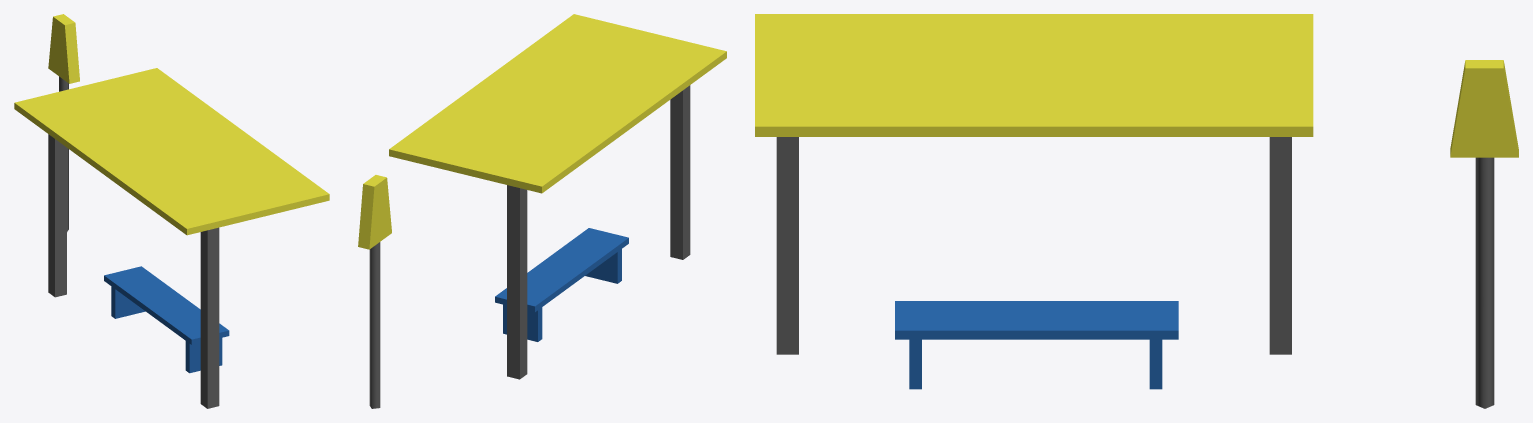
File: Bus Stop.FBX
3 views of the same model, side by side, from view 1: azimuth 30°, elevation 25°; view 2: azimuth 150°, elevation 25°; view 3: azimuth 270°, elevation 25° (orthographic). The views are drawn at different scales.
Parts seen in each view (by area): view 1: Box012; view 2: Box012; view 3: Box012.
Part boxes in pixels (<box>): Box012: <box>14,14,329,408</box>; Box012: <box>358,14,726,408</box>; Box012: <box>755,14,1518,408</box>.
Size of the model in its own units: 10.04 by 14.16 by 28.76.
